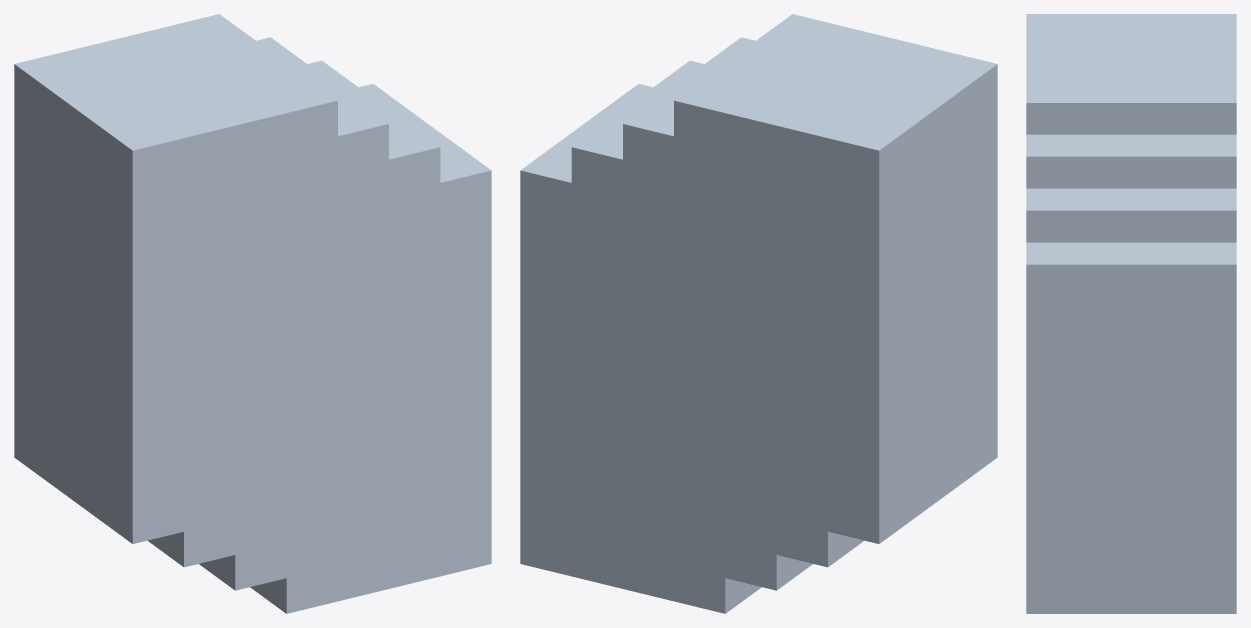
Rendered from baked.glb.
3 renders of one model, left to right at view 1: azimuth 30°, elevation 25°; view 2: azimuth 150°, elevation 25°; view 3: azimuth 270°, elevation 25°, orthographic. The views are drawn at different scales.
Parts seen in each view (by area): view 1: baked; view 2: baked; view 3: baked.
Part boxes in pixels (left/top/right/bottom): baked: left=14, top=14, right=491, bottom=613; baked: left=520, top=14, right=997, bottom=613; baked: left=1026, top=14, right=1236, bottom=613.
Bounding box in the file's own units: 2.62 × 3.5 × 1.5.
